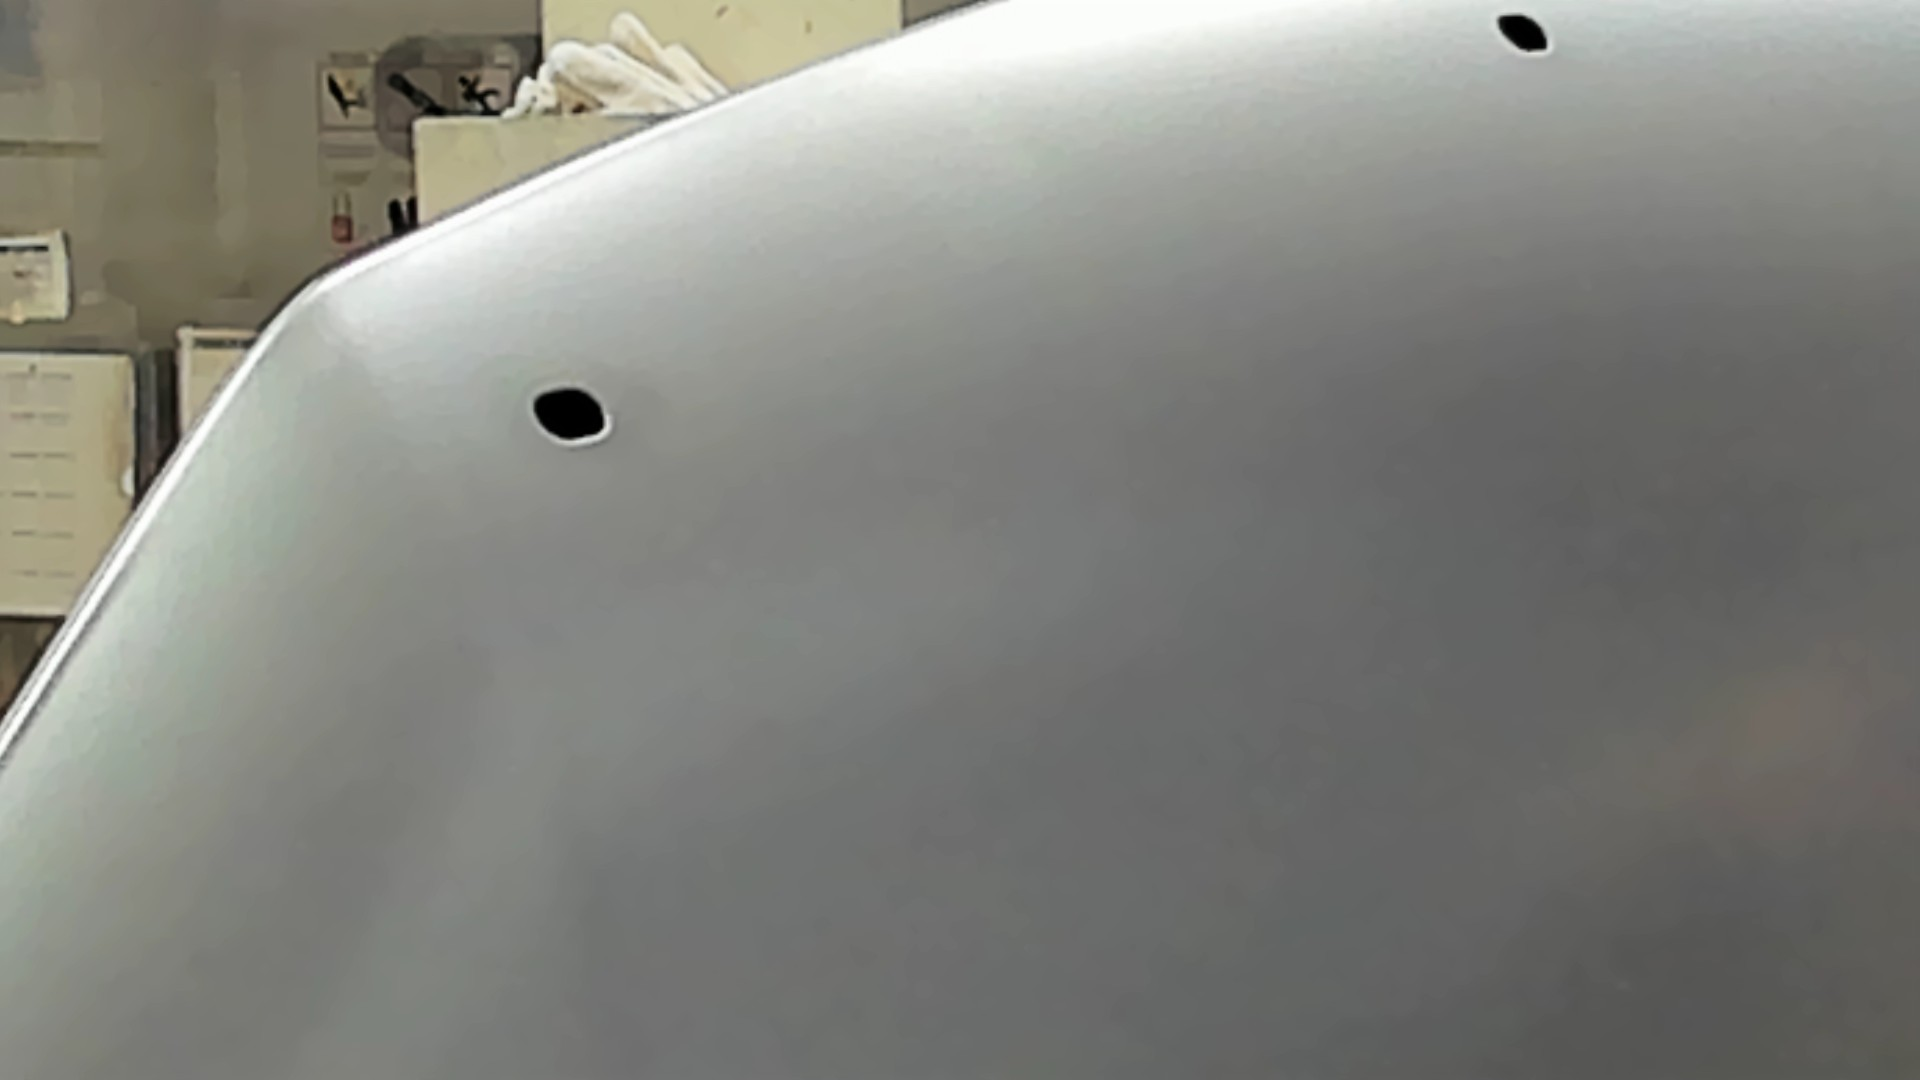amorfo: (521, 378, 620, 454), (1486, 13, 1564, 59)
capo: (725, 142, 1920, 1080)
